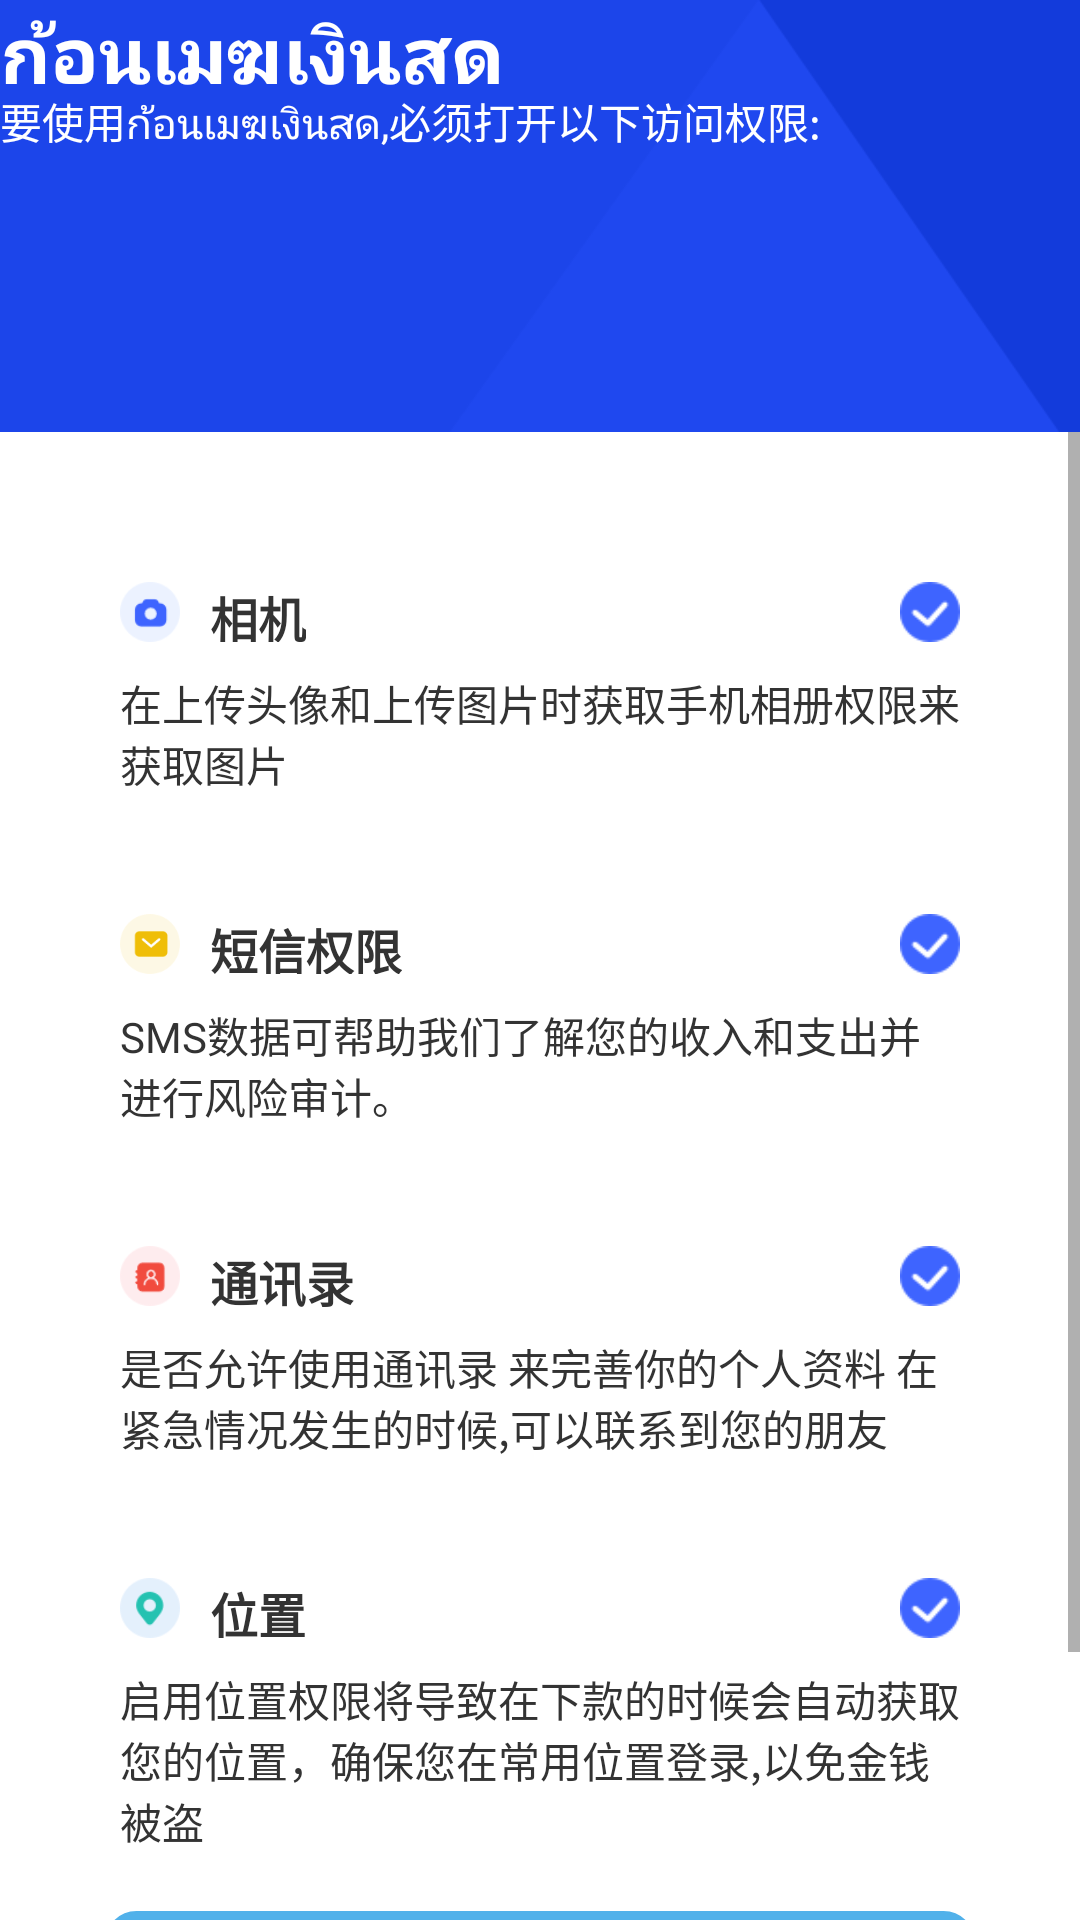

Screen size 1080x1920. Icon name, then its box in pixels as (x1, y1, x2, y2):
xiangji: (134, 598, 168, 628)
xuanze: (900, 582, 960, 642), (900, 914, 960, 974), (900, 1246, 960, 1306), (900, 1578, 960, 1638)
